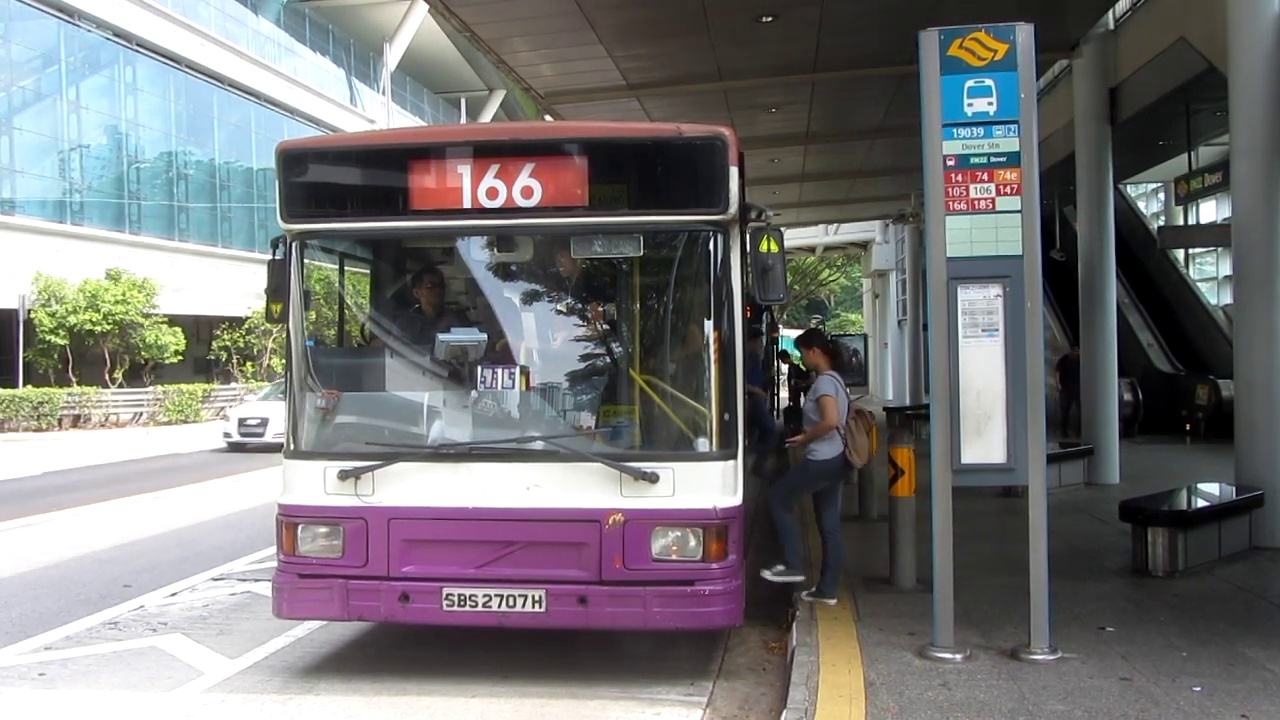bus panel: (405, 153, 593, 212)
